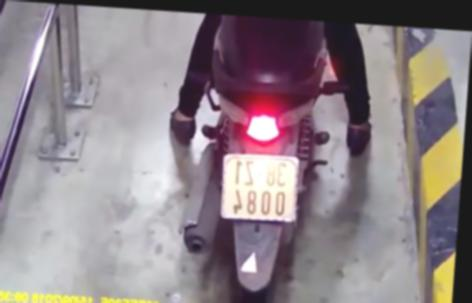License_Plate: (208, 150, 308, 228)
